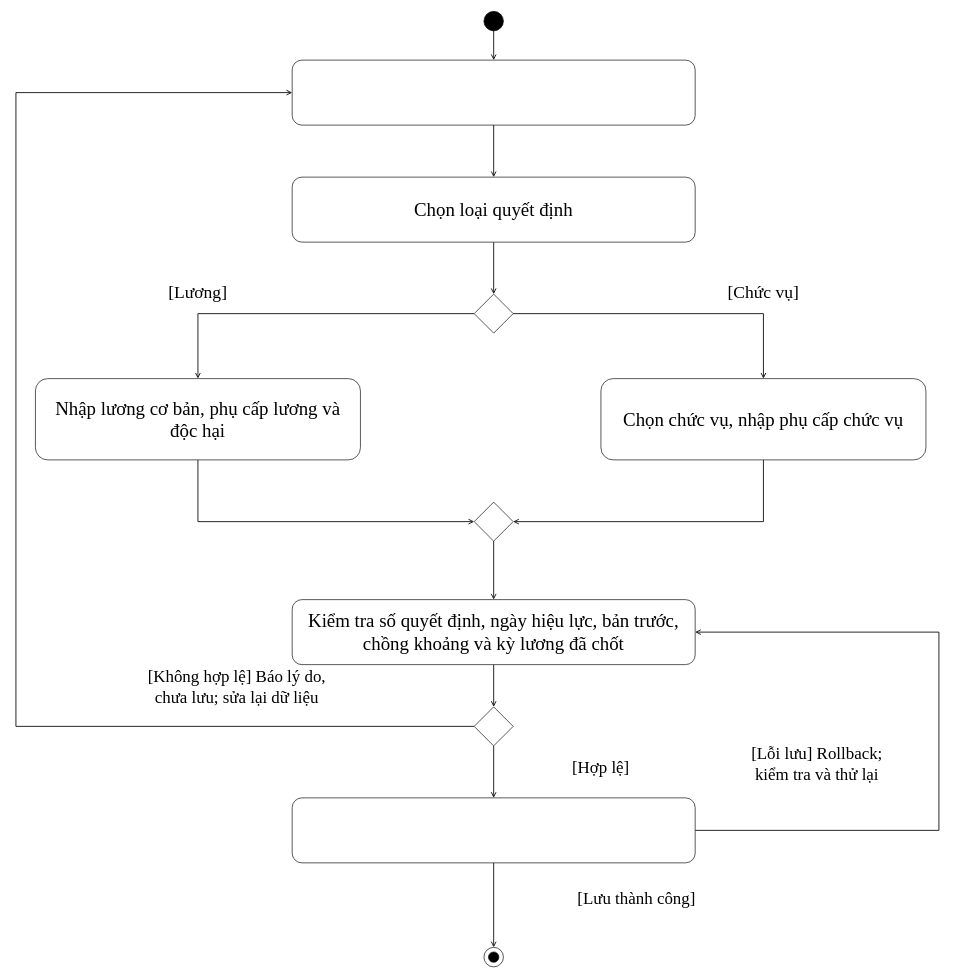
Some shapes in this 956 by 978 pixel diagram are drawn without their labels. Each missing label, with the centre of its shape:
Chọn nhân viên chính thức và thao tác lập mới / tăng lương / bổ nhiệm: pixel 493 92
Kết thúc hiệu lực bản cũ nếu cần; lưu quyết định mới trong cùng giao dịch: pixel 493 830
